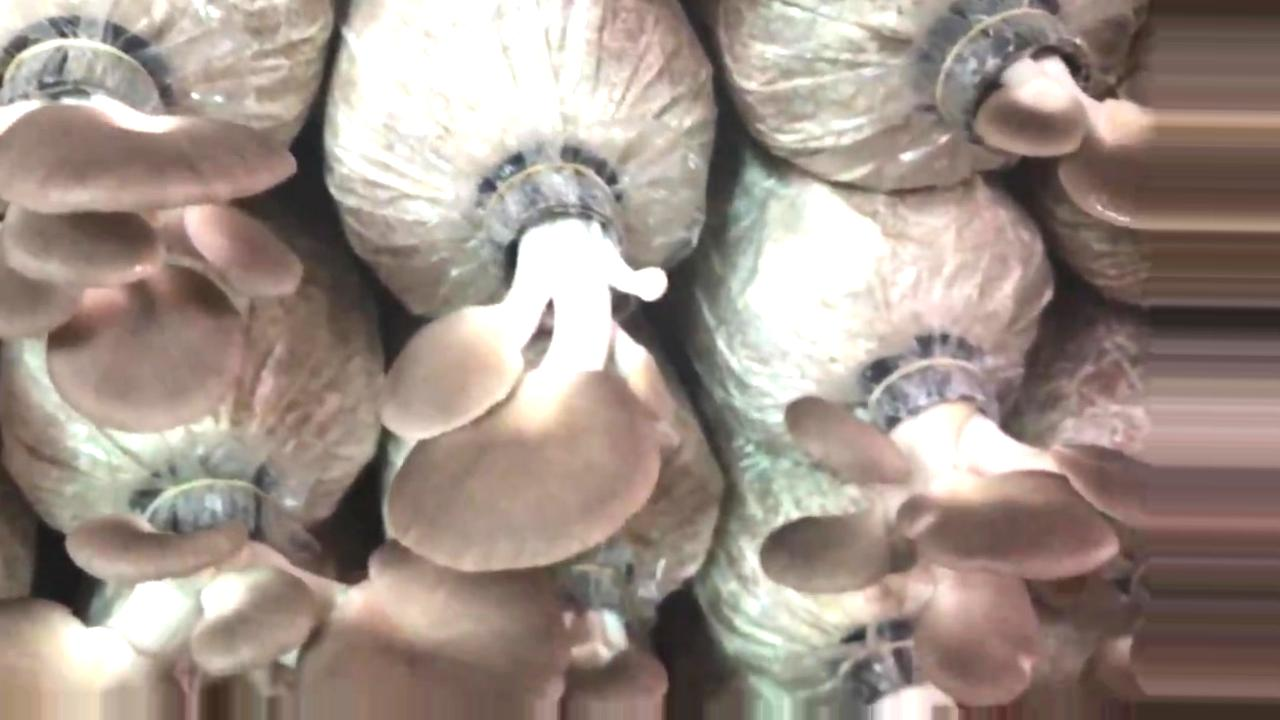nam: (1, 478, 567, 714), (764, 360, 1116, 716), (1, 37, 309, 435), (383, 168, 672, 571), (957, 12, 1280, 236), (563, 570, 668, 720)
